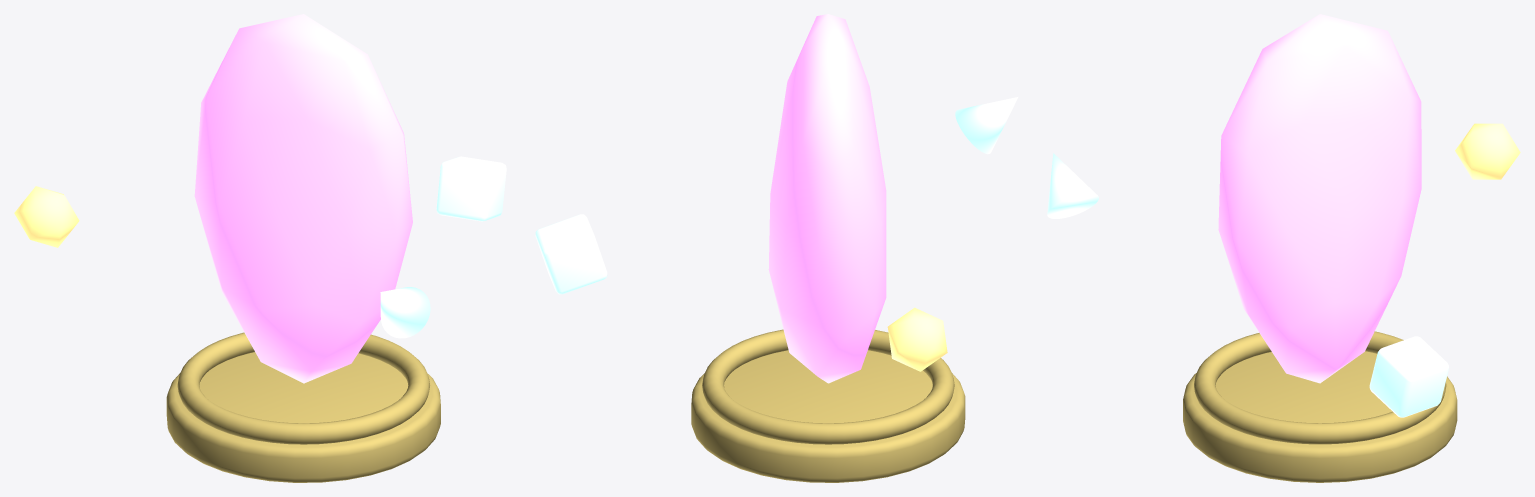
The model's file is crystal.glb.
3 renders of one model, left to right at view 1: azimuth 30°, elevation 25°; view 2: azimuth 150°, elevation 25°; view 3: azimuth 270°, elevation 25°, orthographic.
Parts seen in each view (by area): view 1: Crystal, Pedestal, Rim, Scrap0, Scrap1, Scrap2; view 2: Crystal, Pedestal, Rim, Scrap0, Scrap1, Scrap2; view 3: Crystal, Pedestal, Rim, Scrap0, Scrap1, Scrap2.
Part boxes in pixels (x1,y1,x2,y2): Crystal: (194, 14, 412, 383); Pedestal: (166, 352, 440, 482); Rim: (177, 332, 429, 444); Scrap0: (436, 156, 506, 221); Scrap1: (14, 186, 79, 247); Scrap2: (380, 287, 430, 338); Crystal: (768, 14, 886, 383); Pedestal: (691, 350, 965, 482); Rim: (702, 329, 954, 444); Scrap0: (535, 214, 607, 294); Scrap1: (887, 307, 947, 371); Scrap2: (955, 97, 1018, 154); Crystal: (1218, 14, 1421, 383); Pedestal: (1183, 351, 1457, 482); Rim: (1194, 331, 1446, 444); Scrap0: (1369, 336, 1448, 417); Scrap1: (1455, 123, 1520, 179); Scrap2: (1047, 153, 1098, 218).
Size of the model in its own units: 1.87 by 1.66 by 1.72.
